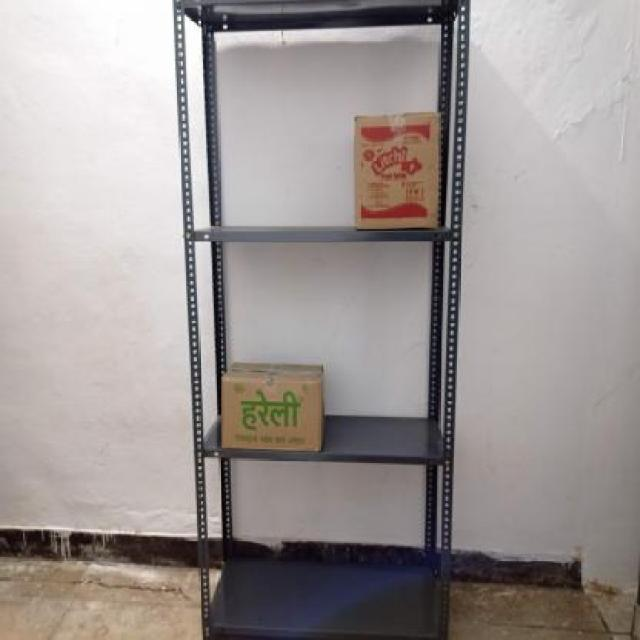box: (352, 114, 443, 232), (219, 376, 321, 452)
